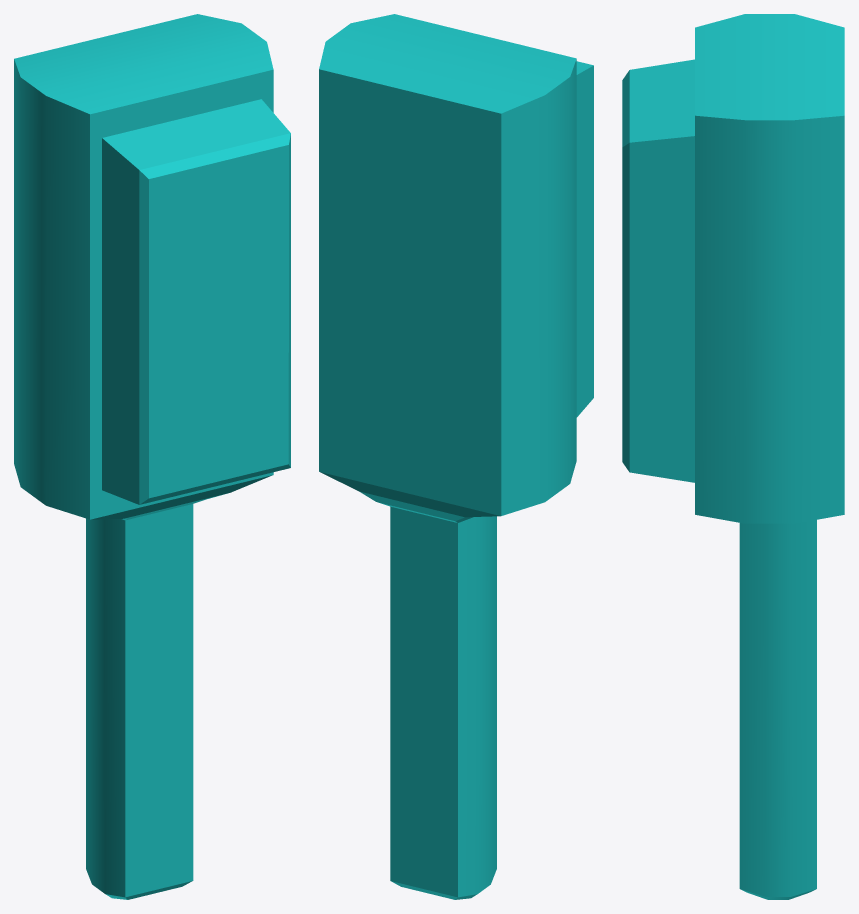
File: Peine02.fbx
The picture shows the model from 3 angles, left to right: view 1: azimuth 30°, elevation 25°; view 2: azimuth 150°, elevation 25°; view 3: azimuth 270°, elevation 25°; orthographic projection.
Parts seen in each view (by area): view 1: Peine01; view 2: Peine01; view 3: Peine01.
Part boxes in pixels (box(x1,y1,x2,y2)): Peine01: box(14, 14, 290, 899); Peine01: box(319, 14, 593, 899); Peine01: box(622, 14, 844, 899).
Bounding box in the file's own units: 0.0496 × 0.1781 × 0.0439.
